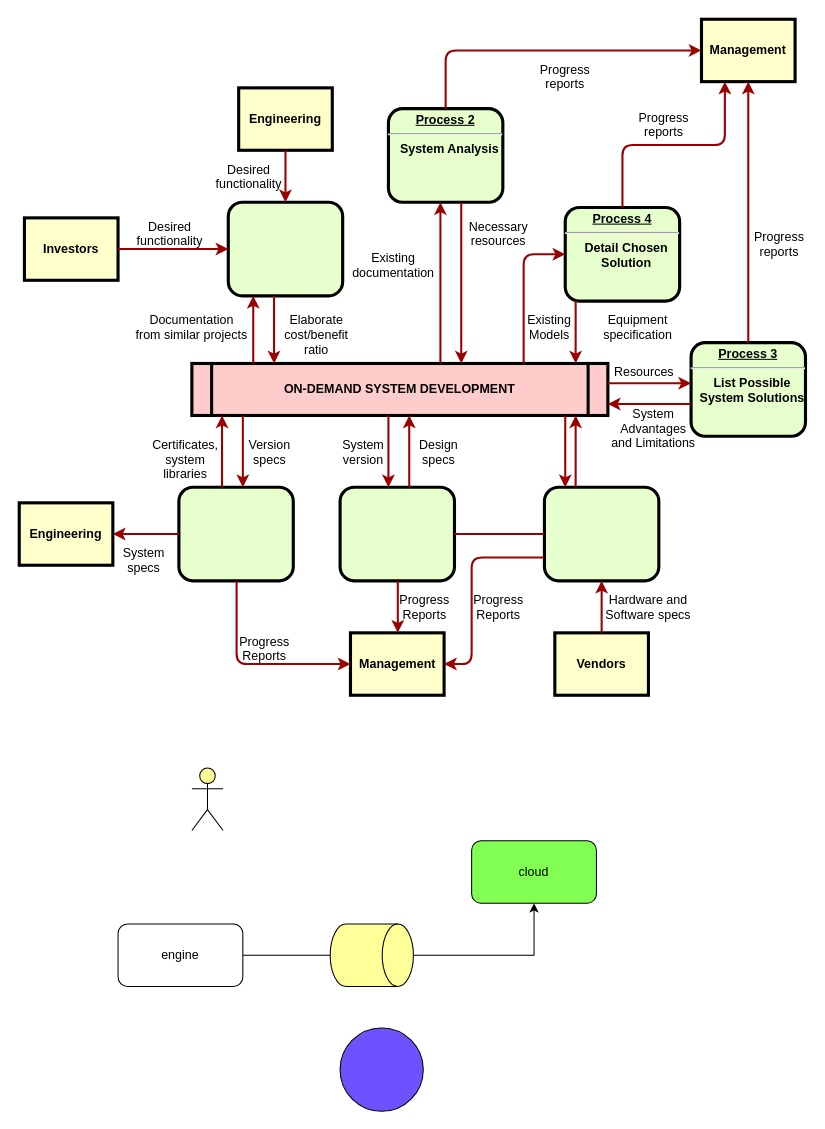
Image size: 825x1129. Some labels were removed from this diagram. The centre of each missing label's shape, as x and y in pixels:
"Actor" goes at point (207, 798).
"pipeline" goes at point (371, 954).
"Process 1 System Study Preparation" goes at point (285, 248).
"Process 5 New System Design" goes at point (601, 533).
"Process 6 New System Construction" goes at point (235, 533).
"Process 7 New System Startup and Testing" goes at point (397, 533).
